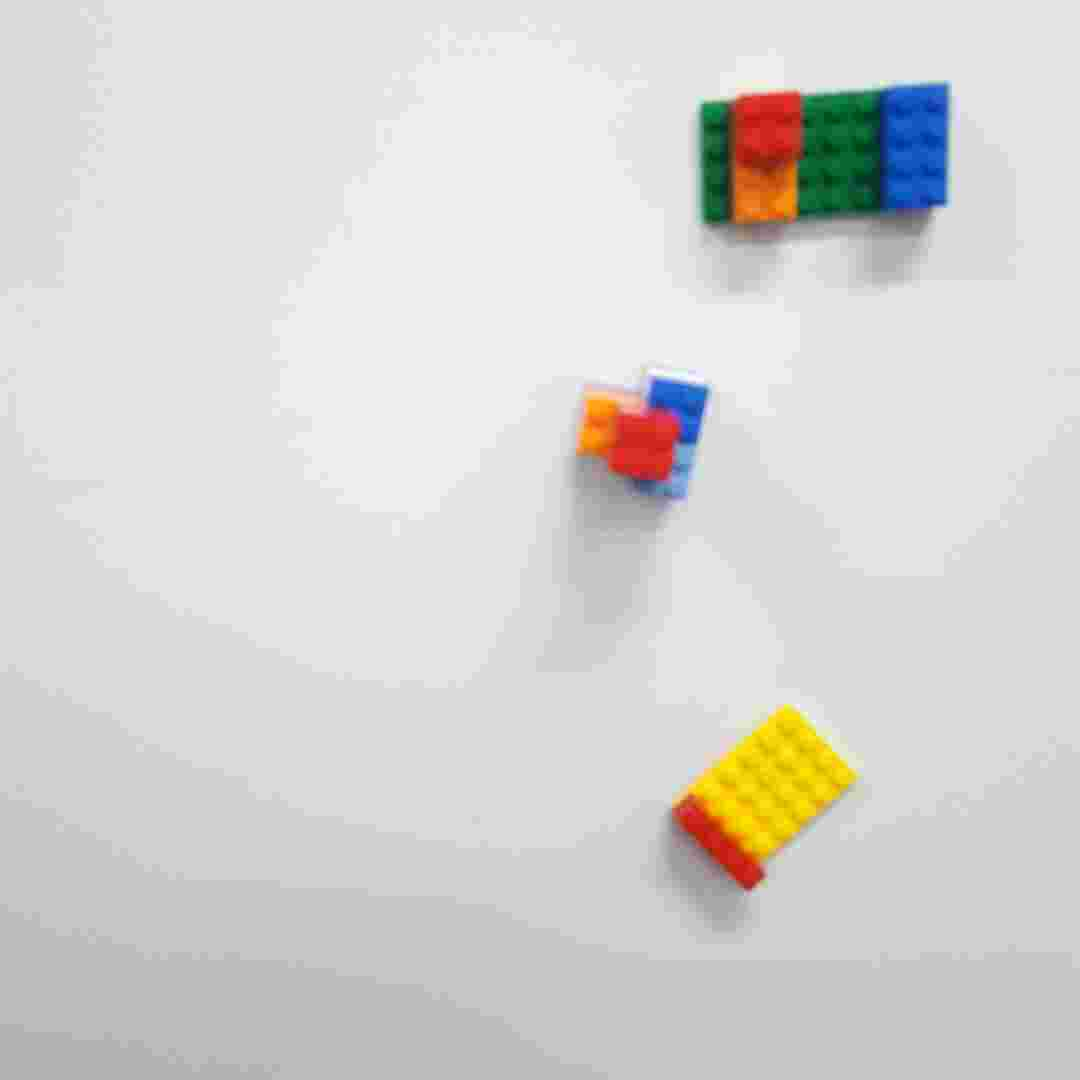LEGO: (692, 79, 957, 232), (667, 702, 865, 892), (567, 365, 712, 505)
